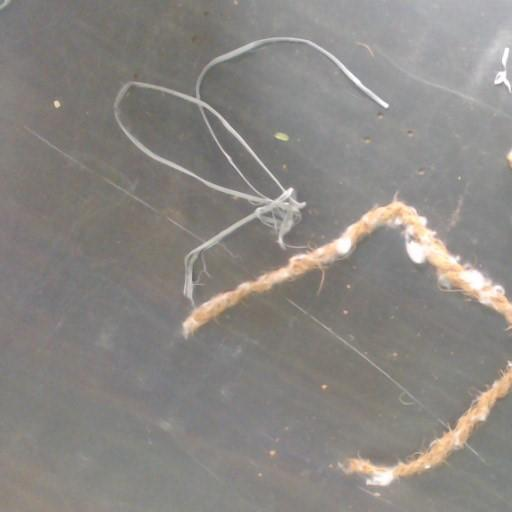conveyor belt: (0, 0, 511, 511), (121, 88, 245, 189), (196, 221, 288, 302), (210, 117, 277, 195)
jute: (183, 200, 511, 334), (341, 362, 511, 485)
thread: (114, 37, 387, 301)
